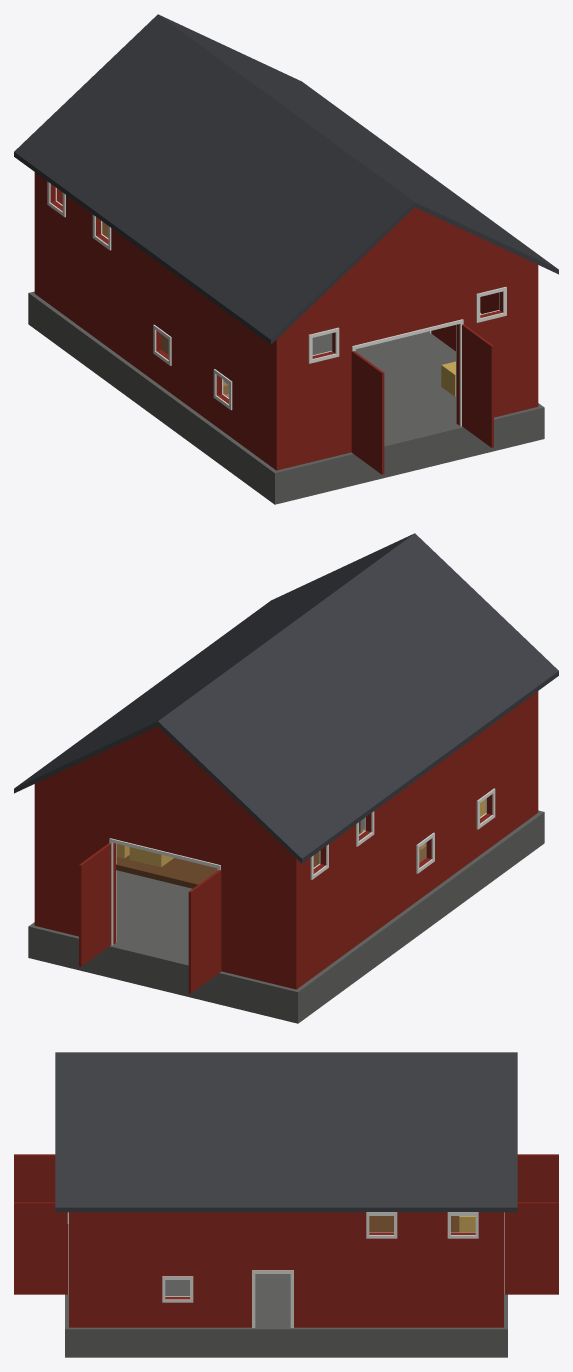
File: barn.glb
3 renders of one model, top to bottom at view 1: azimuth 30°, elevation 25°; view 2: azimuth 150°, elevation 25°; view 3: azimuth 270°, elevation 25°, orthographic. The views are drawn at different scales.
Visible parts, largest first — view 1: barn; view 2: barn; view 3: barn.
Part boxes in pixels (x1,y1,x2,y2): barn: (14, 14, 558, 504); barn: (14, 533, 558, 1023); barn: (14, 1052, 558, 1357).
Bounding box in the file's own units: 11 × 9.98 × 20.04.
